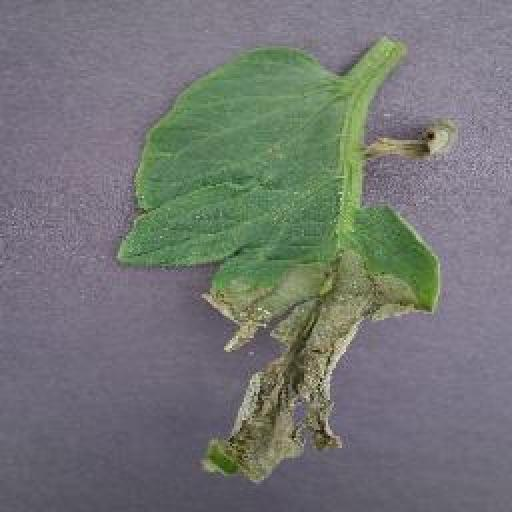disease_tomato: (111, 47, 457, 488)
